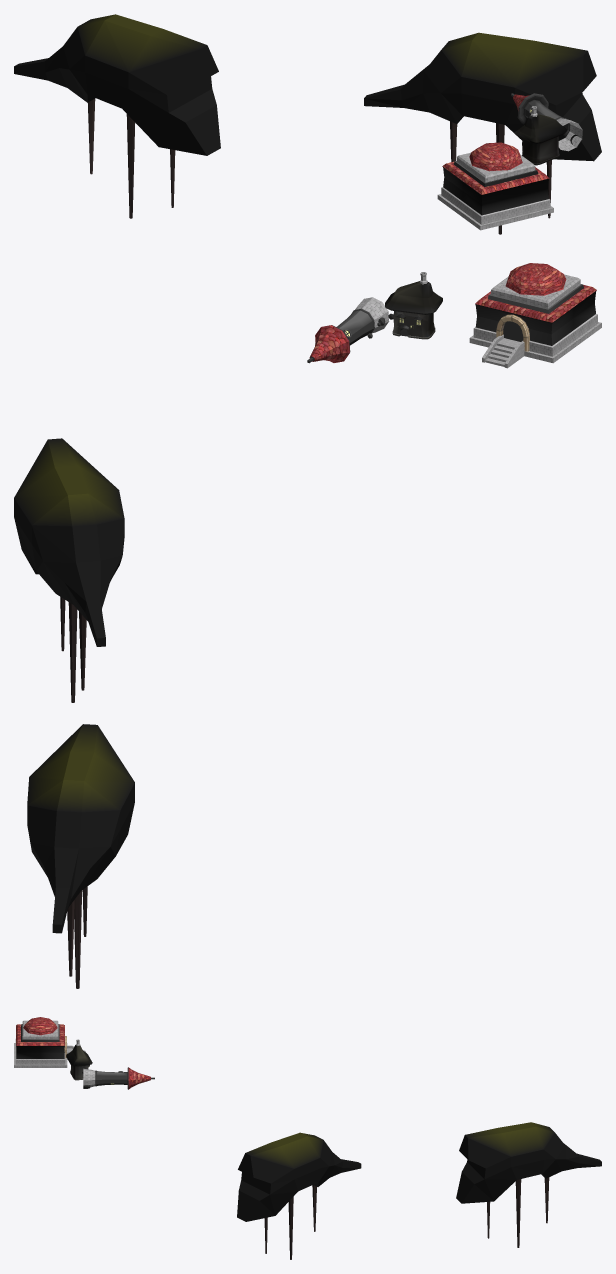
The model's file is PeachCastleTownAfterAttack.dae.
3 renders of one model, top to bottom at view 1: azimuth 30°, elevation 25°; view 2: azimuth 150°, elevation 25°; view 3: azimuth 270°, elevation 25°, orthographic. The views are drawn at different scales.
Visible parts, largest first — view 1: m1, m4, m2, m3, m5; view 2: m1, m2, m4, m3, m5; view 3: m1, m4, m2, m3.
Part boxes in pixels (x1=…): m1: x1=14, y1=14, x2=601, y2=234; m4: x1=443, y1=101, x2=568, y2=215; m2: x1=437, y1=106, x2=582, y2=230; m3: x1=442, y1=94, x2=549, y2=194; m5: x1=514, y1=115, x2=567, y2=142; m1: x1=14, y1=284, x2=596, y2=988; m2: x1=355, y1=272, x2=601, y2=368; m4: x1=336, y1=281, x2=595, y2=345; m3: x1=309, y1=263, x2=596, y2=362; m5: x1=385, y1=281, x2=442, y2=328; m1: x1=16, y1=1024, x2=601, y2=1259; m4: x1=16, y1=1046, x2=126, y2=1085; m2: x1=14, y1=1020, x2=95, y2=1087; m3: x1=16, y1=1017, x2=150, y2=1089.
Size of the model in its own units: 6990 by 7738 by 18522.
